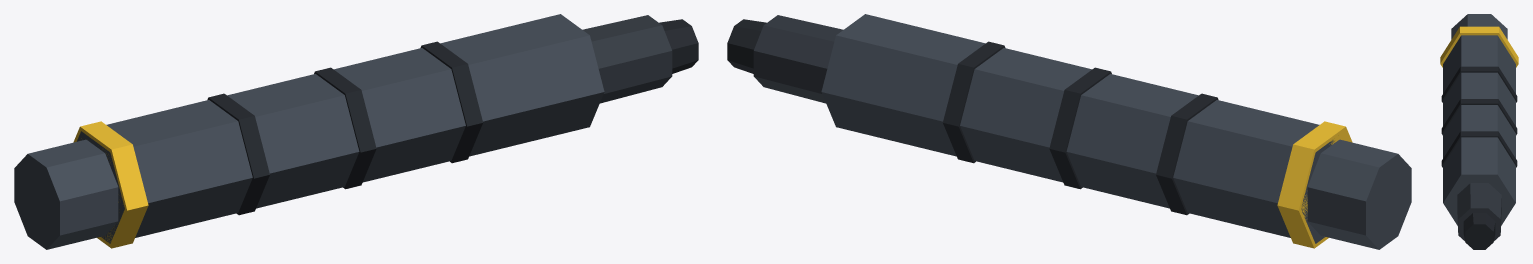
The model's file is barrel_shrouded.glb.
3 views of the same model, side by side, from view 1: azimuth 30°, elevation 25°; view 2: azimuth 150°, elevation 25°; view 3: azimuth 270°, elevation 25° (orthographic). The views are drawn at different scales.
Parts seen in each view (by area): view 1: barrel_shrouded; view 2: barrel_shrouded; view 3: barrel_shrouded.
Boxes of the visible parts, x1=… form: barrel_shrouded: x1=14, y1=14, x2=698, y2=249; barrel_shrouded: x1=727, y1=14, x2=1411, y2=249; barrel_shrouded: x1=1440, y1=14, x2=1518, y2=249.
Size of the model in its own units: 0.244 by 0.0355 by 0.041.
